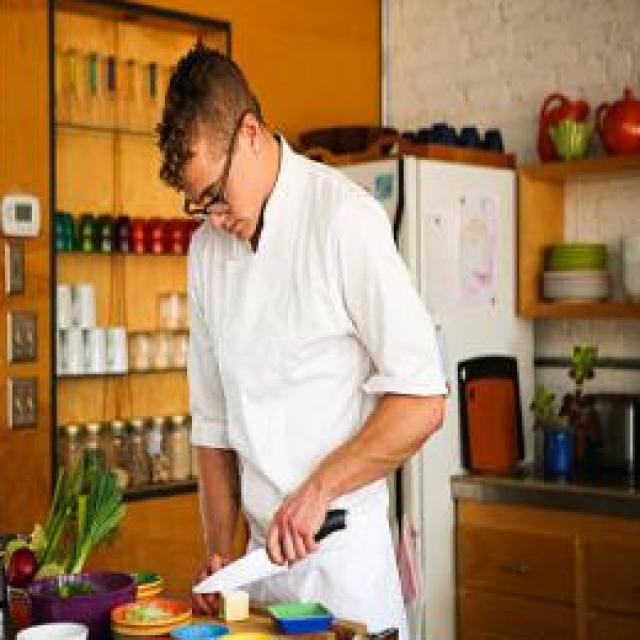knife: (191, 507, 352, 595)
